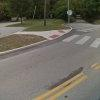Crosswalk: (59, 26, 100, 72)
